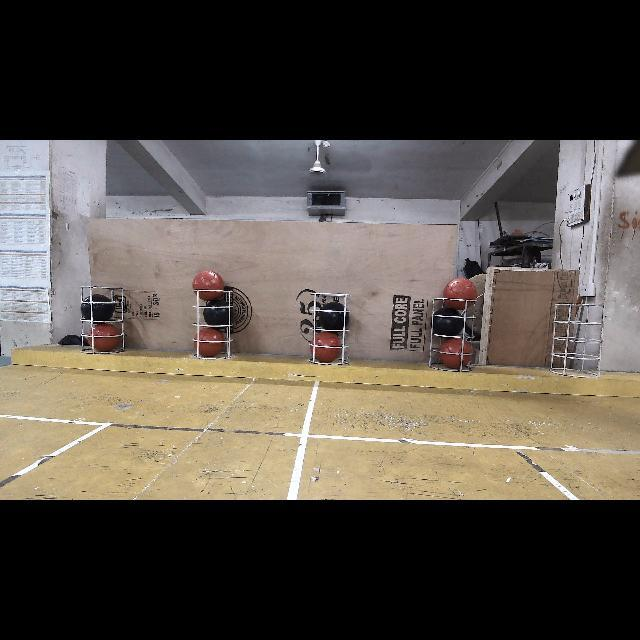P: (316, 302, 348, 330), (82, 296, 116, 320), (433, 308, 462, 334), (204, 302, 233, 328)
R: (442, 278, 478, 310), (441, 334, 474, 366), (192, 270, 224, 301), (309, 330, 339, 360), (198, 326, 228, 354), (89, 322, 121, 348)
S: (425, 298, 480, 373), (550, 306, 604, 376), (308, 290, 350, 365), (194, 289, 234, 361), (82, 286, 124, 351)
